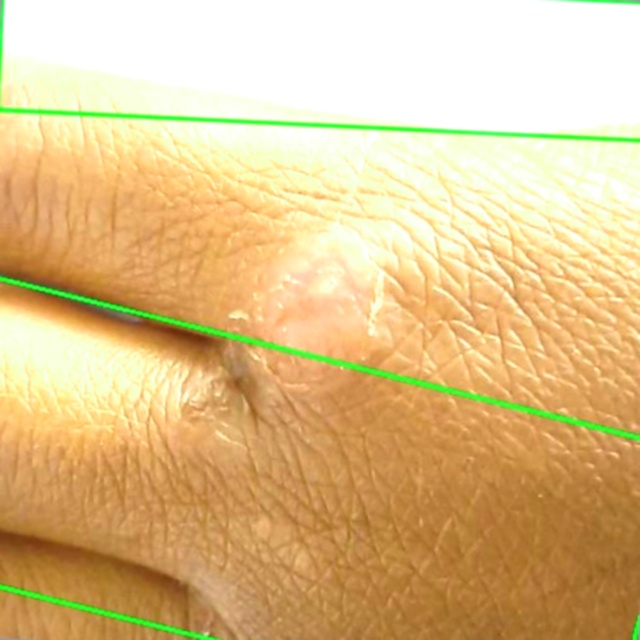Eczema: (0, 277, 639, 639), (0, 0, 639, 140)
